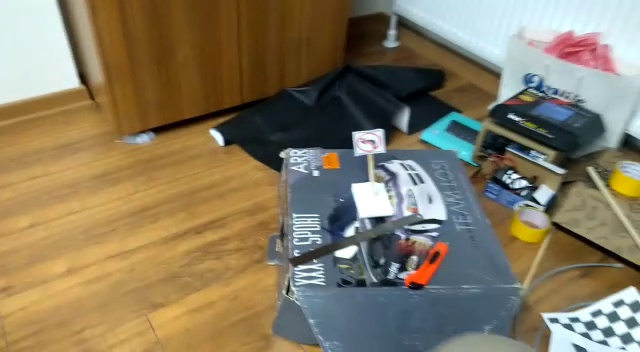sola_donulmez: (353, 128, 384, 155)
